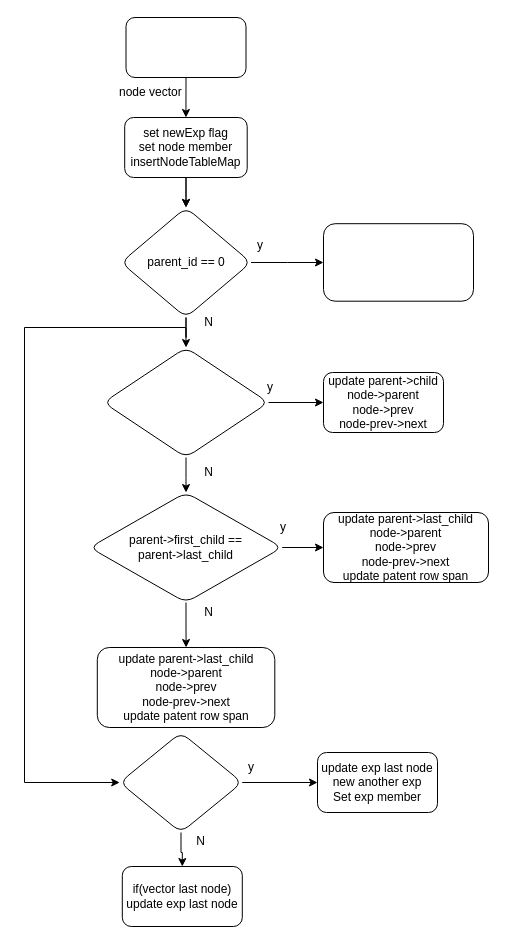
The diagram is 506 pixels wide and 944 high, and some of its shapes have lost their labels. The centre of each missing label's shape, as x and y in pixels:
"gtree parse result" belongs at point 185,47.
"new exp" belongs at point 180,782.
"parent->first_child == null" belongs at point 185,402.
"root_node = node_1 new exp SetExpFirstNode SetScenario InsertExpMap" belongs at point 398,262.
